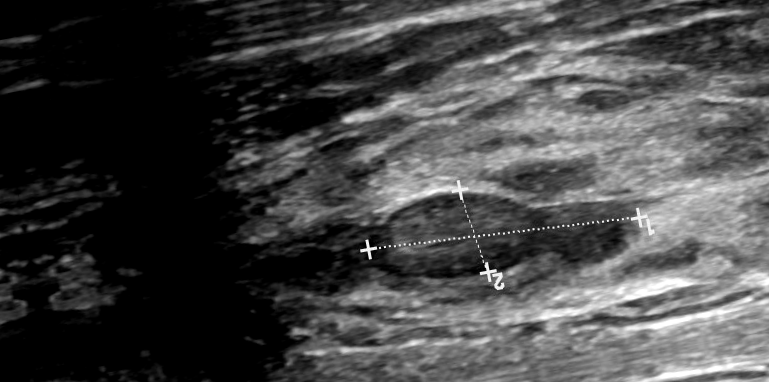Benign: (387, 161, 632, 281)
